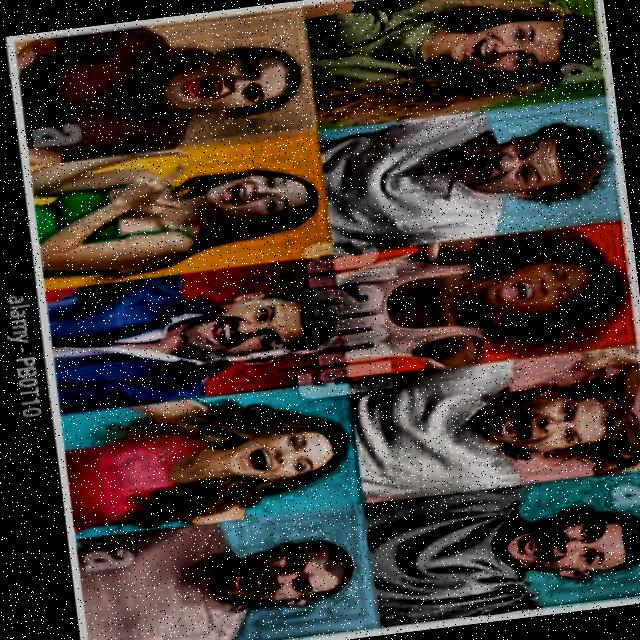angry: (206, 534, 355, 624), (466, 247, 613, 333), (451, 127, 588, 206), (161, 47, 297, 120)
surprised: (472, 375, 624, 468), (182, 287, 324, 369), (491, 503, 640, 581), (436, 8, 578, 87), (217, 410, 350, 492), (192, 156, 312, 235)
